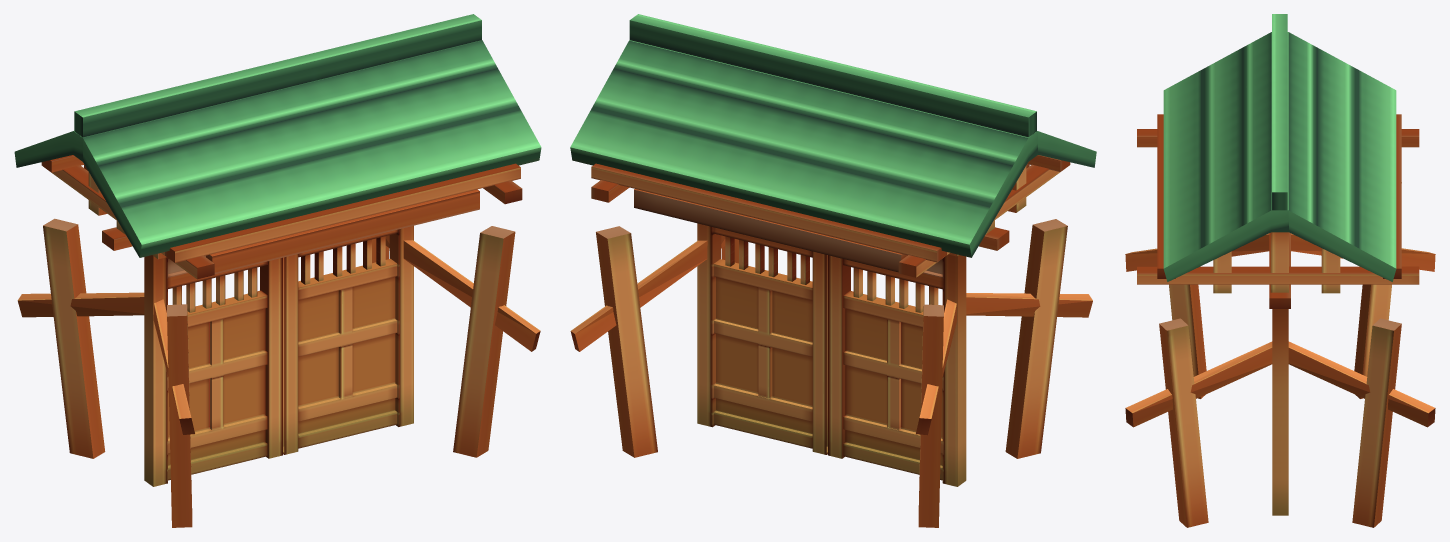
The model's file is door_01.FBX.
3 views of the same model, side by side, from view 1: azimuth 30°, elevation 25°; view 2: azimuth 150°, elevation 25°; view 3: azimuth 270°, elevation 25° (orthographic). The views are drawn at different scales.
Parts seen in each view (by area): view 1: door_01; view 2: door_01; view 3: door_01.
Part boxes in pixels (box(x1,y1,x2,y2)): door_01: box(14, 14, 541, 527); door_01: box(570, 14, 1096, 527); door_01: box(1125, 14, 1435, 527).
Bounding box in the file's own units: 64563 × 59689 × 47419.
